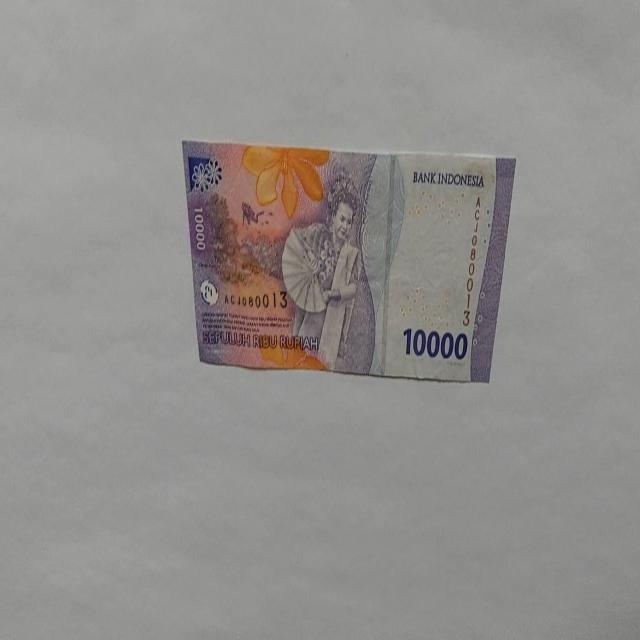sepuluh ribu rupiah: (180, 138, 516, 384), (402, 324, 468, 362)
